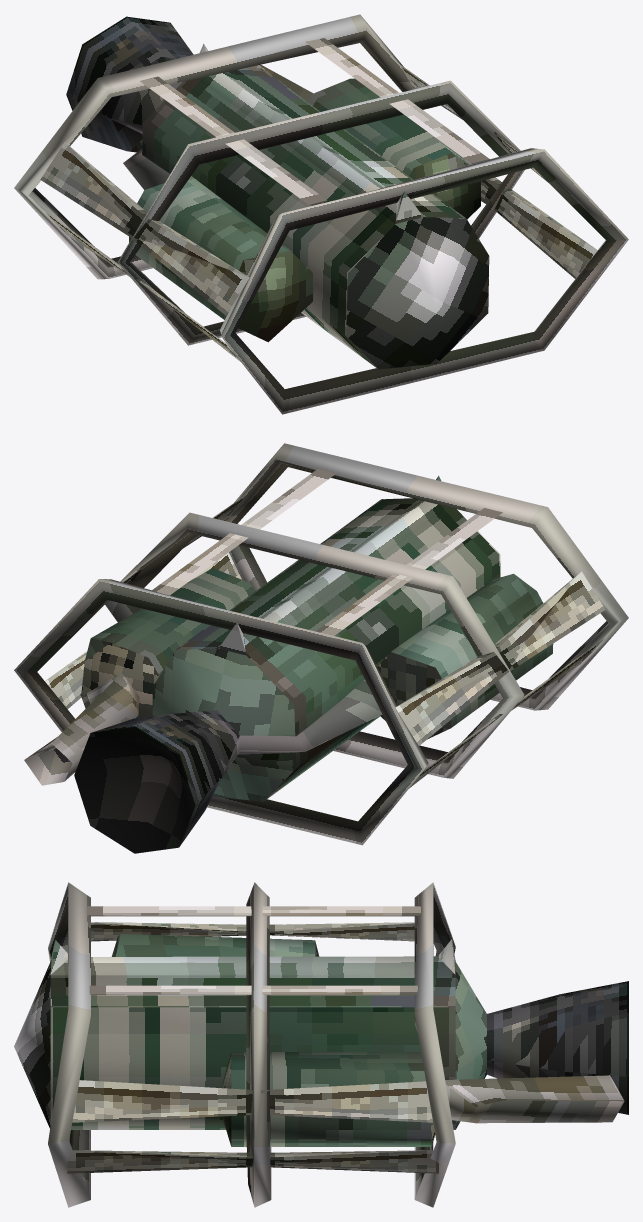
File: ship_component_booster_s02_l2.fbx
3 renders of one model, top to bottom at view 1: azimuth 30°, elevation 25°; view 2: azimuth 150°, elevation 25°; view 3: azimuth 270°, elevation 25°, orthographic.
Visible parts, largest first — view 1: mesh_node; view 2: mesh_node; view 3: mesh_node.
Part boxes in pixels (x1=…): mesh_node: x1=14, y1=14, x2=628, y2=414; mesh_node: x1=14, y1=443, x2=628, y2=853; mesh_node: x1=14, y1=882, x2=628, y2=1207.
Bounding box in the file's own units: 0.4094 × 0.1894 × 0.5301.
